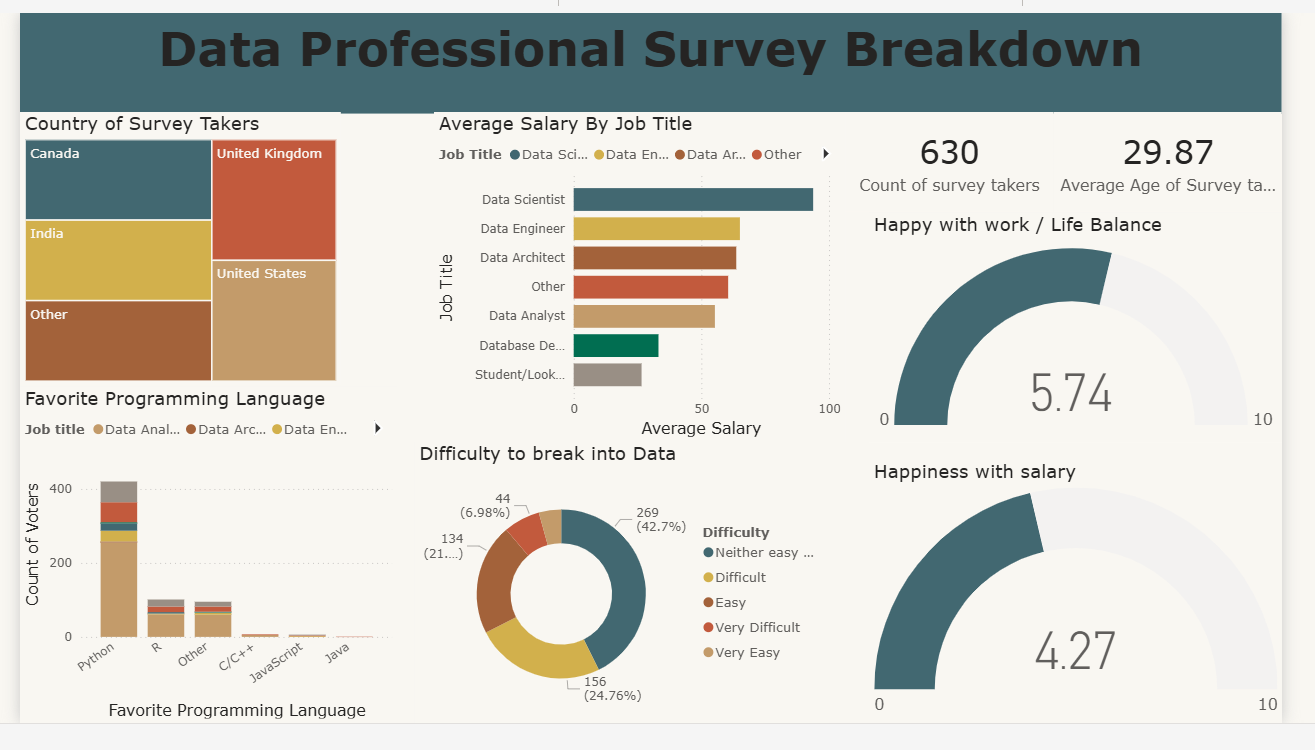

Layout of this report page (visuals, bound fields, positions):
{"tool":"powerbi","page":{"name":"Page 1","canvas":[1280,720],"ordinal":0},"visuals":[{"type":"textbox","box":[0,0,1279.4,102],"z":0},{"type":"card","fields":{"Values":["Count(Data Professional Survey.Unique ID)"]},"box":[836.4,101.1,211.4,101.1],"z":1000},{"type":"card","fields":{"Values":["Avg(Data Professional Survey.Q10 - Current Age)"]},"box":[1047.8,101.1,231.6,101.1],"z":2000},{"type":"barChart","title":"Average Salary By Job Title","fields":{"Category":["Data Professional Survey.Q1 - Which Title Best Fits your Current Role?.1"],"Y":["Avg(Data Professional Survey.Average of Salary)"],"Series":["Data Professional Survey.Q1 - Which Title Best Fits your Current Role?.1"]},"box":[419.1,101.1,417.3,334.6],"z":3000},{"type":"columnChart","title":"Favorite Programming Language","fields":{"Category":["Data Professional Survey.Q5 - Favorite Programming Language.1"],"Y":["CountNonNull(Data Professional Survey.Unique ID)"],"Series":["Data Professional Survey.Q1 - Which Title Best Fits your Current Role?.1"]},"box":[0,378.7,382.3,341.9],"z":4000},{"type":"treemap","title":"Country of Survey Takers","fields":{"Group":["Data Professional Survey.Q11 - Which Country do you live in?.1"],"Values":["Count(Data Professional Survey.Q11 - Which Country do you live in?.1)"]},"box":[0,101.1,325.4,277.6],"z":5000},{"type":"gauge","title":"Happy with work / Life Balance","fields":{"Y":["Avg(Data Professional Survey.Q6 - How Happy are you in your Current Position with the following? (Work/Life Balance))"],"MinValue":["Min(Data Professional Survey.Q6 - How Happy are you in your Current Position with the following? (Work/Life Balance))1"],"MaxValue":["Max(Data Professional Survey.Q6 - How Happy are you in your Current Position with the following? (Work/Life Balance))2"]},"box":[860.3,202.2,419.1,233.5],"z":6000},{"type":"gauge","title":"Happiness with salary","fields":{"Y":["Avg(Data Professional Survey.Q6 - How Happy are you in your Current Position with the following? (Salary))"],"MinValue":["Min(Data Professional Survey.Q6 - How Happy are you in your Current Position with the following? (Salary))"],"MaxValue":["Max(Data Professional Survey.Q6 - How Happy are you in your Current Position with the following? (Salary))"]},"box":[860.3,454,419.1,266.5],"z":7000},{"type":"donutChart","title":"Difficulty to break into Data","fields":{"Category":["Data Professional Survey.Q7 - How difficult was it for you to break into Data?"],"Y":["CountNonNull(Data Professional Survey.Q7 - How difficult was it for you to break into Data?)"]},"box":[400.7,435.7,421,284.9],"z":8000}]}

Visuals, with their boxes in screenshot pixels (x1, y1, x2, y2), scaled from the page's 1280x720 canvas onto the 1315x750 screenshot:
textbox: BBox(0, 0, 1314, 106)
card - Count(Data Professional Survey.Unique ID): BBox(859, 105, 1076, 211)
card - Avg(Data Professional Survey.Q10 - Current Age): BBox(1076, 105, 1314, 211)
"Average Salary By Job Title" barChart: BBox(431, 105, 859, 454)
"Favorite Programming Language" columnChart: BBox(0, 394, 393, 749)
"Country of Survey Takers" treemap: BBox(0, 105, 334, 394)
"Happy with work / Life Balance" gauge: BBox(884, 211, 1314, 454)
"Happiness with salary" gauge: BBox(884, 473, 1314, 749)
"Difficulty to break into Data" donutChart: BBox(412, 454, 844, 749)
